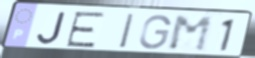1: (219, 18, 239, 52)
E: (63, 11, 108, 49)
G: (137, 14, 174, 51)
I: (118, 12, 138, 50)
J: (35, 11, 68, 46)
M: (167, 15, 215, 53)
